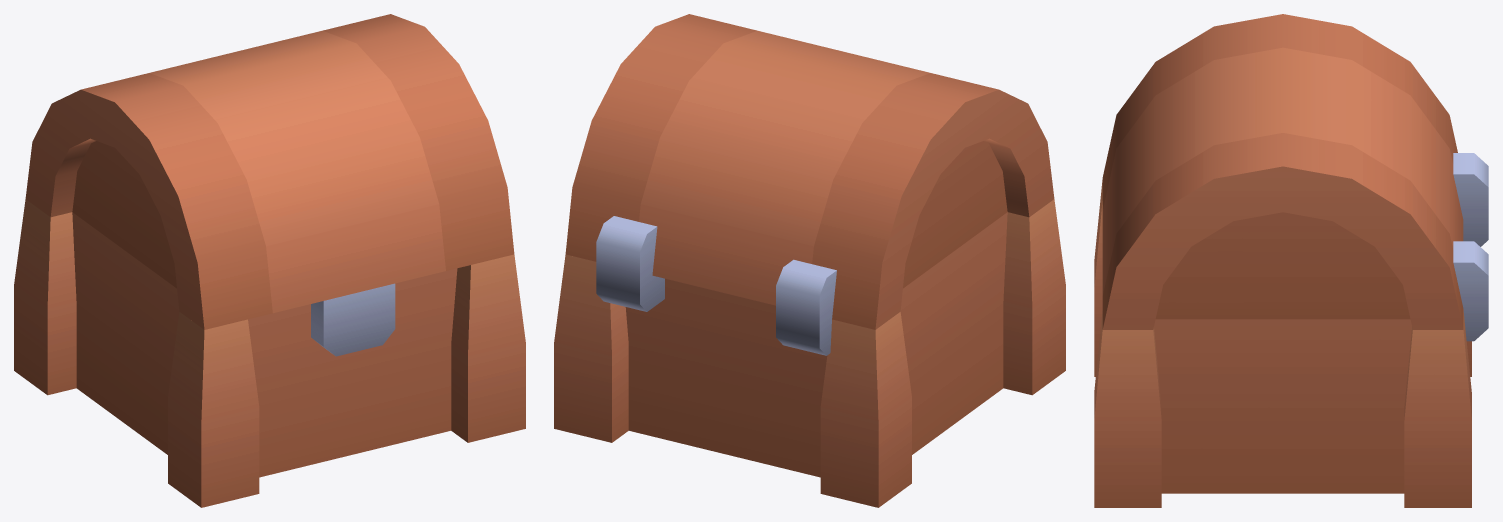
Rendered from chest.glb.
3 renders of one model, left to right at view 1: azimuth 30°, elevation 25°; view 2: azimuth 150°, elevation 25°; view 3: azimuth 270°, elevation 25°, orthographic.
Parts seen in each view (by area): view 1: lid, chest; view 2: lid, chest; view 3: lid, chest.
Boxes of the visible parts, x1,y1,x2,y2 form: lid: (25,14,514,356); chest: (14,199,525,507); lid: (565,14,1054,329); chest: (554,199,1065,507); lid: (1102,14,1463,329); chest: (1094,153,1488,507).
Bounding box in the file's own units: 0.2604 × 0.2572 × 0.272.
Materials: 1 (1 with a texture image).
